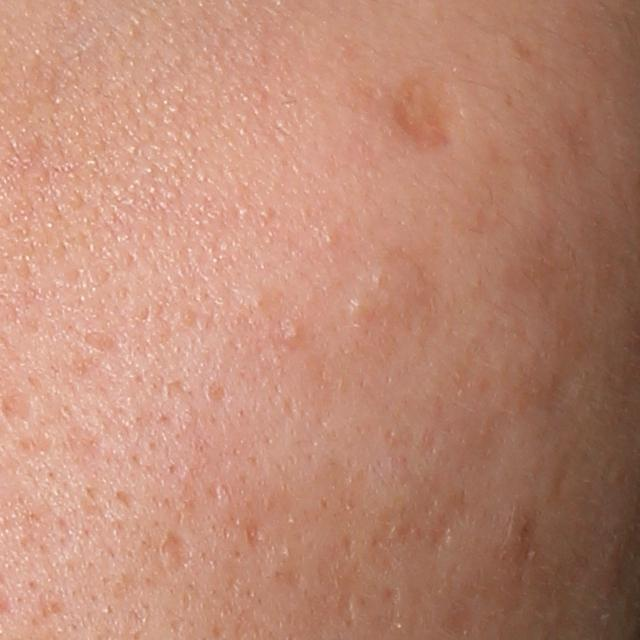atrophic_scar: (425, 486, 477, 551), (18, 513, 62, 562), (153, 530, 194, 577), (334, 560, 359, 626), (84, 326, 121, 354), (244, 519, 262, 555), (208, 379, 228, 403), (340, 534, 358, 560), (379, 584, 399, 601)
comedo: (283, 323, 308, 346), (347, 294, 367, 318)
melasma: (388, 70, 450, 157)
